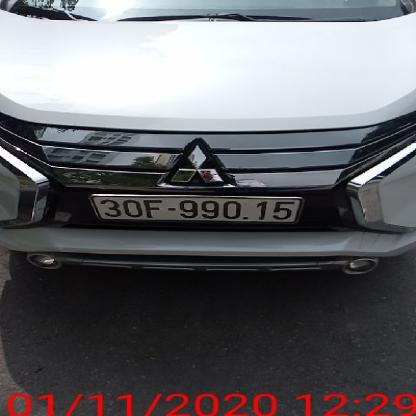biensoxe: (86, 184, 305, 232)
